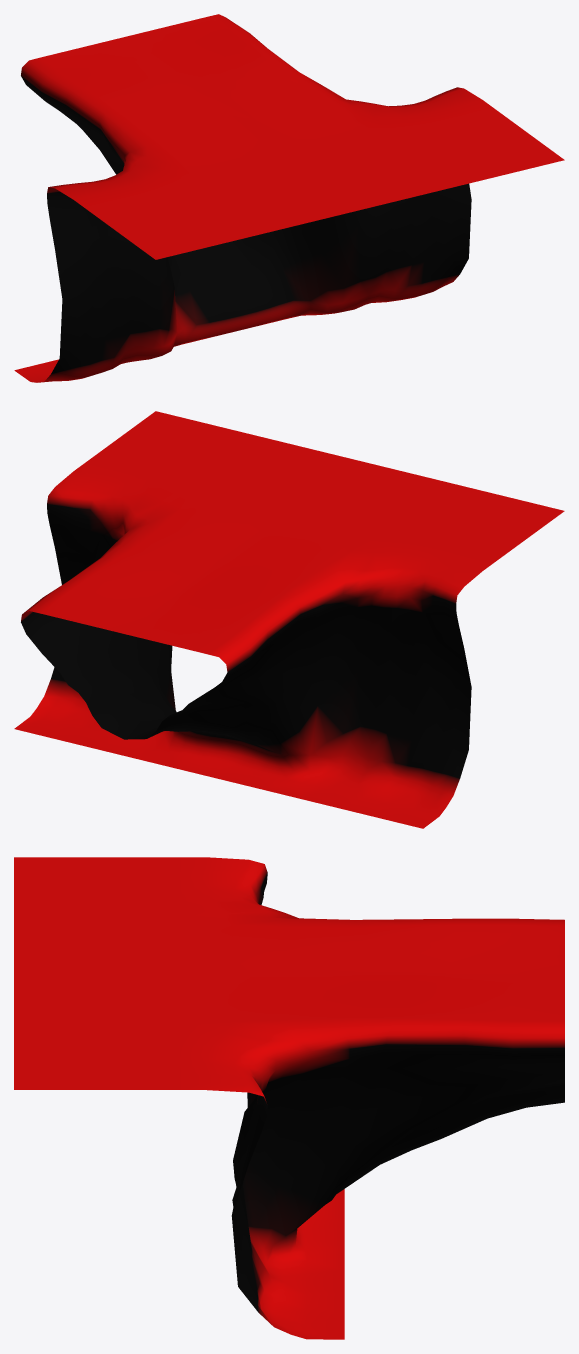
File: CrossingCliff02A 1M Foreground.fbx
3 renders of one model, top to bottom at view 1: azimuth 30°, elevation 25°; view 2: azimuth 150°, elevation 25°; view 3: azimuth 270°, elevation 25°, orthographic. The views are drawn at different scales.
Parts seen in each view (by area): view 1: CrossingCliff02A 1M Foreground; view 2: CrossingCliff02A 1M Foreground; view 3: CrossingCliff02A 1M Foreground.
Part boxes in pixels (x1,y1,x2,y2): CrossingCliff02A 1M Foreground: (14, 14, 564, 382); CrossingCliff02A 1M Foreground: (14, 411, 564, 828); CrossingCliff02A 1M Foreground: (14, 857, 564, 1339).
Size of the model in its own units: 2 by 1.01 by 2.
